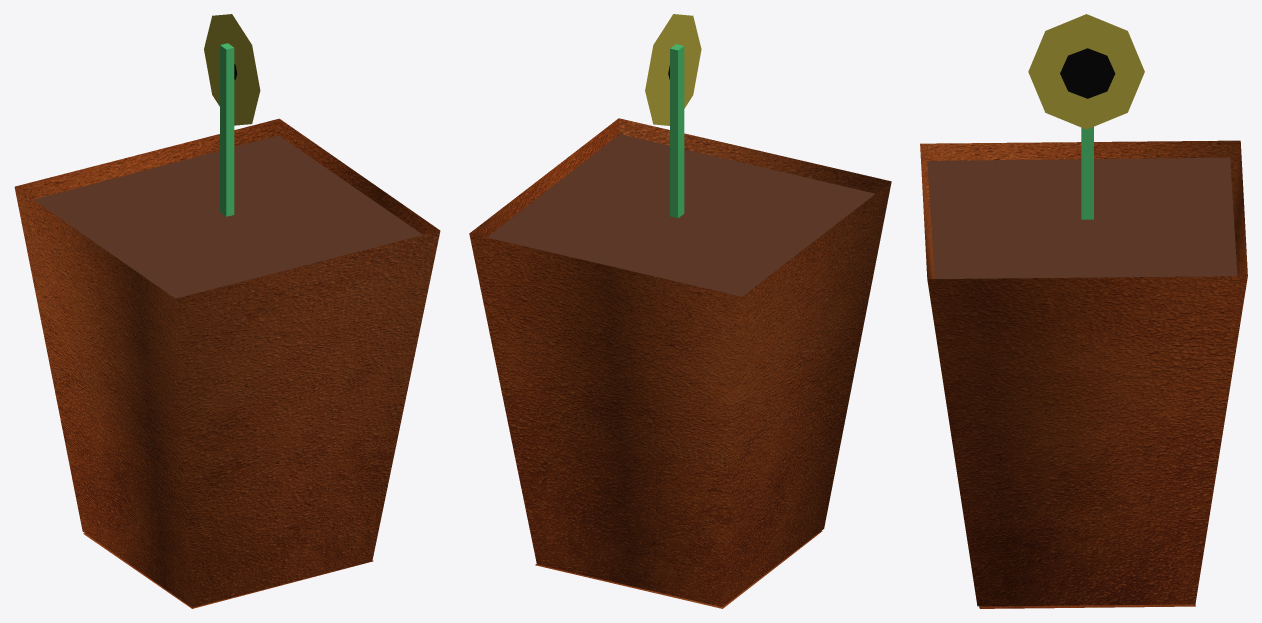
The model's file is SquarePot.gltf.
3 views of the same model, side by side, from view 1: azimuth 30°, elevation 25°; view 2: azimuth 150°, elevation 25°; view 3: azimuth 270°, elevation 25° (orthographic). The views are drawn at different scales.
Visible parts, largest first — view 1: Cylinder, Plane, Ring, Box; view 2: Cylinder, Plane, Ring, Box, Bottom; view 3: Cylinder, Plane, Ring (×2), Box, Bottom.
Part boxes in pixels (x1,y1,x2,y2): Cylinder: [14, 118, 440, 607]; Plane: [33, 135, 422, 298]; Ring: [204, 14, 260, 125]; Box: [220, 43, 234, 216]; Cylinder: [469, 118, 891, 607]; Plane: [487, 134, 875, 296]; Ring: [645, 14, 701, 125]; Box: [670, 44, 684, 218]; Bottom: [535, 531, 822, 608]; Cylinder: [920, 140, 1247, 606]; Plane: [927, 157, 1237, 278]; Ring (×2): [1028, 14, 1144, 129]; Box: [1081, 127, 1093, 219]; Bottom: [979, 604, 1195, 608].
Size of the model in its own units: 1.45 by 2.68 by 1.45.
6 materials, 2 textured.
